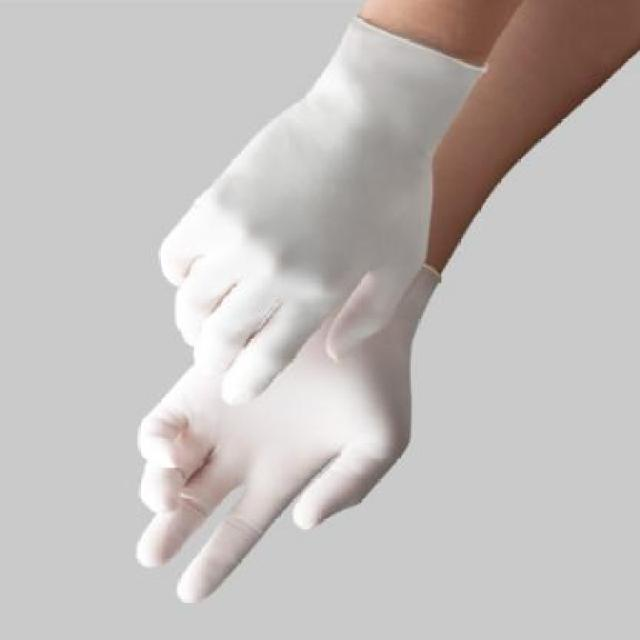gloved_hand: (137, 24, 511, 607)
